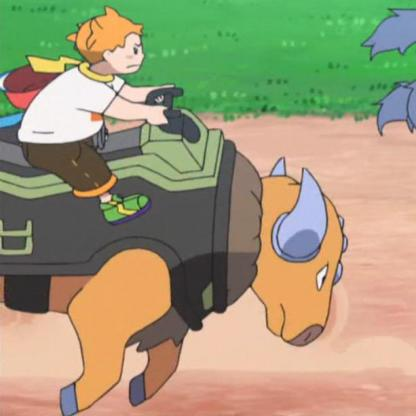Tauros: (1, 77, 386, 416)
